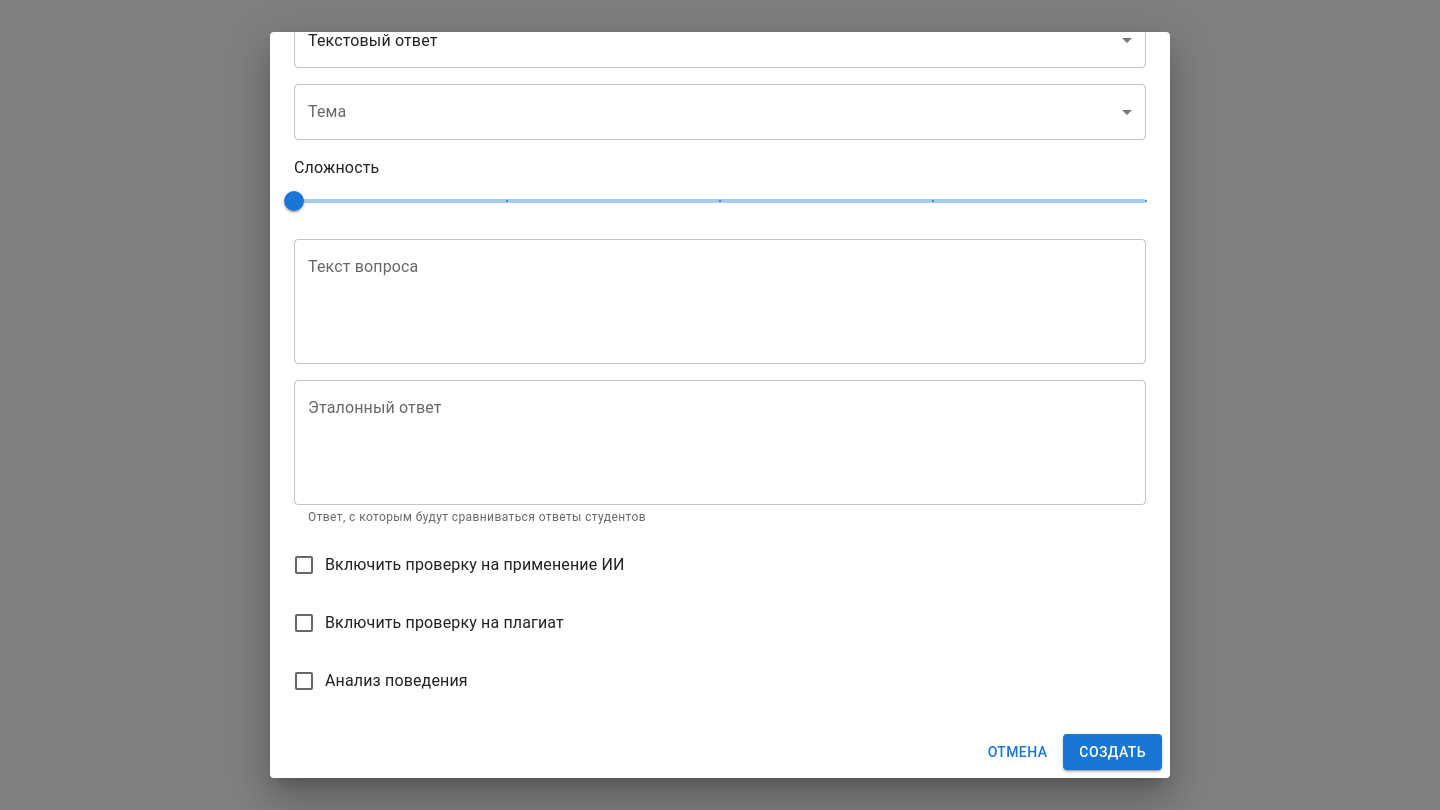
Scenario: QuestionFormDialog (Конструктор вопросов) › should validate required fields
The width and height of the screenshot is (1440, 810).
(page scrolled)
Click the button "Создать" at [1113, 752], box [1063, 734, 1162, 770]
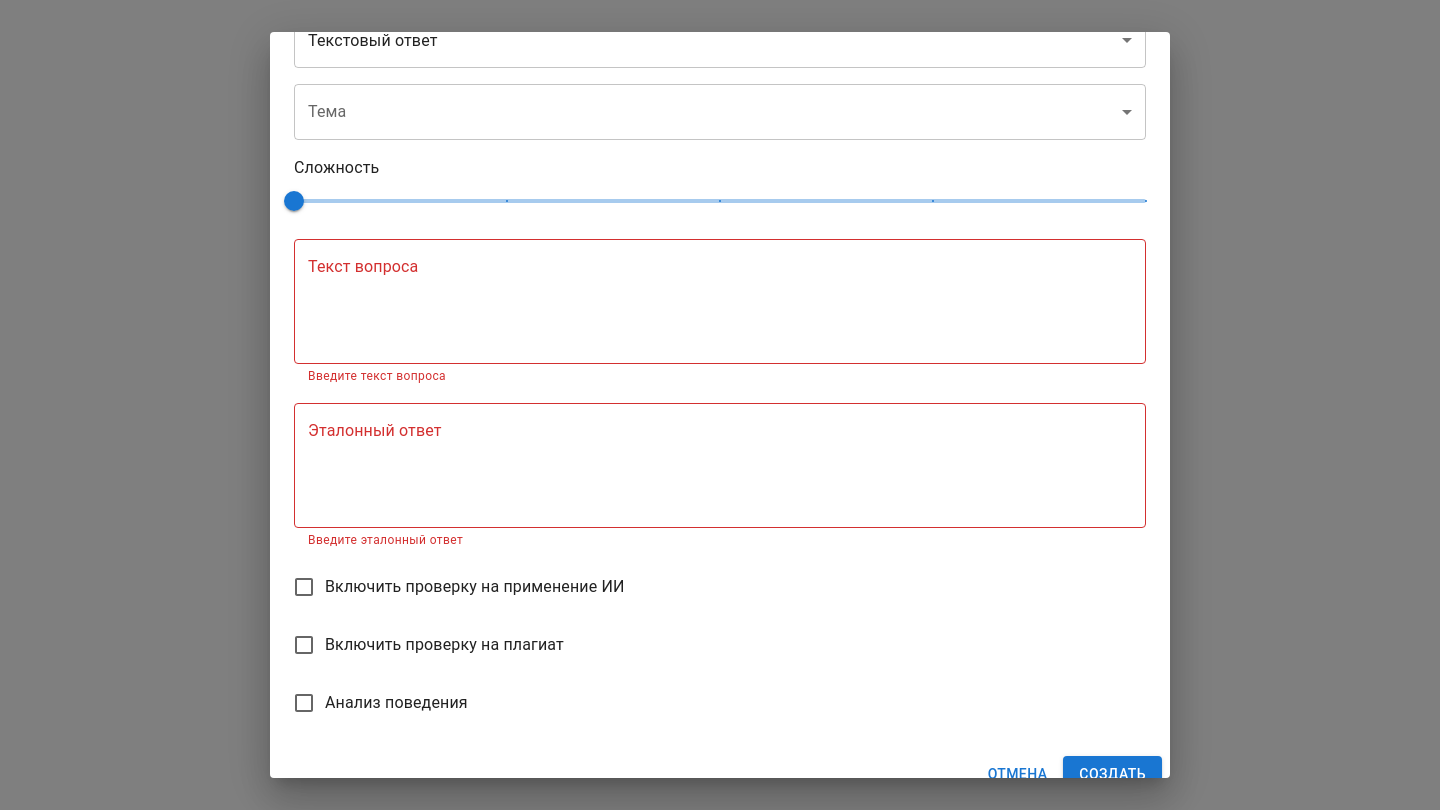
Expected: the text "Введите текст вопроса" is shown, [308, 369, 446, 383]
Expected: the text "Введите эталонный ответ" is shown, [308, 532, 463, 546]
